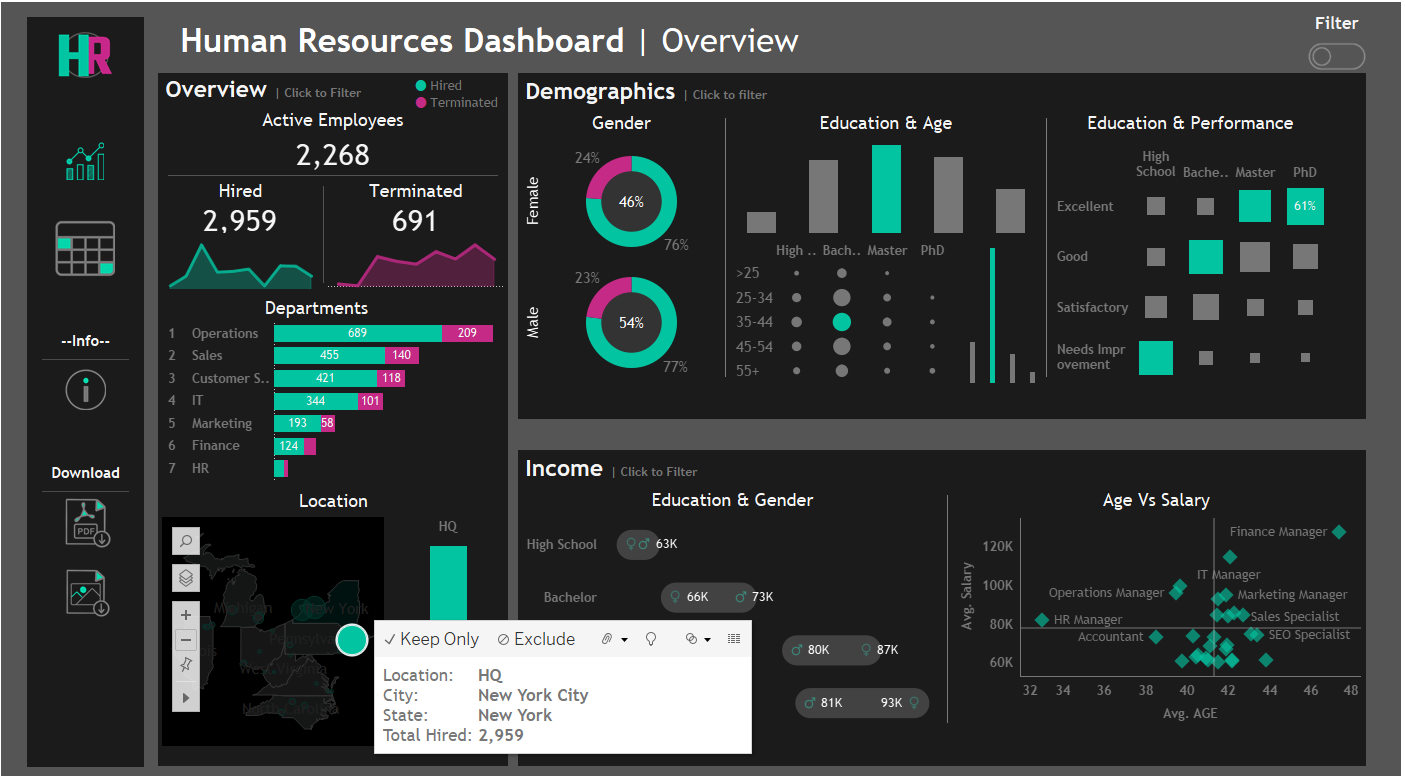

What the dashboard file says about the page in this screenshot:
{"tool":"tableau","page":{"name":"HR | Summary (3)","canvas":[1400,800],"ordinal":3},"visuals":[{"type":"blank","box":[7,7,130,393]},{"type":"text","box":[143,7,676,64]},{"type":"blank","box":[819,7,536,64]},{"type":"text","box":[149,77,352,32]},{"type":"text","box":[509,79,838,35]},{"type":"text","box":[149,109,352,29]},{"type":"text","box":[511,116,207,29]},{"type":"blank","box":[718,116,25,246]},{"type":"text","box":[743,116,261,29]},{"type":"blank","box":[1004,116,25,246]},{"type":"text","box":[1029,116,316,29]},{"type":"worksheet","title":"Active","mark":"Text","box":[149,138,352,41]},{"type":"worksheet","title":"Gender","mark":"Pie","rows":["Gender"],"cols":["Calculation_1937110846429085710","Calculation_1937110846429085710"],"box":[511,145,207,217]},{"type":"worksheet","title":"Age Group","mark":"Bar","rows":["Calculation_1937110846402056192"],"cols":["Calculation_1937110846440509456"],"box":[743,145,261,100]},{"type":"worksheet","title":"Education VS Performance","mark":"Square","rows":["Performance Rating"],"cols":["Education Level"],"box":[1029,145,316,217]},{"type":"blank","box":[149,179,352,25]},{"type":"text","box":[151,206,165,29]},{"type":"blank","box":[316,206,17,113]},{"type":"text","box":[333,206,166,29]},{"type":"worksheet","title":"HIRED","mark":"Text","box":[151,235,165,32]},{"type":"worksheet","title":"Terminated","mark":"Text","box":[333,235,166,32]},{"type":"worksheet","title":"Age VS Education","mark":"Pie","rows":["Calculation_1937110846440509456"],"cols":["Education Level"],"box":[743,245,152.5,117]},{"type":"worksheet","title":"Education Level","mark":"Bar","rows":["Calculation_1937110846402056192"],"cols":["Education Level"],"box":[895.5,245,108.5,117]},{"type":"worksheet","title":"Hired by Years","mark":"Line","rows":["Calculation_1937110846402056192","Calculation_1937110846402056192"],"cols":["Hiredate"],"box":[151,267,165,52]},{"type":"worksheet","title":"Terminated by Years","mark":"Line","rows":["Calculation_1937110846402326529","Calculation_1937110846402326529"],"cols":["Termdate"],"box":[333,267,166,52]},{"type":"blank","box":[149,321,118.7,25]},{"type":"text","box":[267.7,321,114.7,25]},{"type":"blank","box":[382.3,321,118.7,25]},{"type":"worksheet","title":"Departments","mark":"Bar","rows":["Calculation_1937110846415405062","Department"],"cols":["Calculation_1937110846402056192"],"box":[149,346,352,166]},{"type":"blank","box":[7,400,130,393]},{"type":"text","box":[509,415,838,35]},{"type":"text","box":[511,452,410.5,29]},{"type":"blank","box":[921.5,452,25,220]},{"type":"text","box":[946.5,452,398.5,29]},{"type":"worksheet","title":"Education VS Gender Level","mark":"Square","rows":["Education Level"],"cols":["Salary","Salary"],"box":[511,481,410.5,191]},{"type":"worksheet","title":"Age VS Salary","mark":"Shape","rows":["Salary"],"cols":["Calculation_1937110846439919631"],"box":[946.5,481,398.5,191]},{"type":"blank","box":[149,512,120,24]},{"type":"text","box":[269,512,112,24]},{"type":"blank","box":[381,512,120,24]},{"type":"worksheet","title":"MAP STATE","mark":"Automatic","box":[149,536,292,222]},{"type":"worksheet","title":"Location","mark":"Bar","rows":["Calculation_1937110846402056192"],"cols":["Calculation_1937110846422126599","Calculation1"],"box":[441,536,60,222]}]}

Visuals, with their boxes on the page's 1400x800 design canvas (x1, y1, x2, y2). These are canvas units, not pixel positions in the 1405x776 screenshot, which may show the page scaled, cropped or inside an application window:
blank: [7, 7, 137, 400]
text: [143, 7, 819, 71]
blank: [819, 7, 1355, 71]
text: [149, 77, 501, 109]
text: [509, 79, 1347, 114]
text: [149, 109, 501, 138]
text: [511, 116, 718, 145]
blank: [718, 116, 743, 362]
text: [743, 116, 1004, 145]
blank: [1004, 116, 1029, 362]
text: [1029, 116, 1345, 145]
"Active" worksheet (Text marks): [149, 138, 501, 179]
"Gender" worksheet (Pie marks): [511, 145, 718, 362]
"Age Group" worksheet (Bar marks): [743, 145, 1004, 245]
"Education VS Performance" worksheet (Square marks): [1029, 145, 1345, 362]
blank: [149, 179, 501, 204]
text: [151, 206, 316, 235]
blank: [316, 206, 333, 319]
text: [333, 206, 499, 235]
"HIRED" worksheet (Text marks): [151, 235, 316, 267]
"Terminated" worksheet (Text marks): [333, 235, 499, 267]
"Age VS Education" worksheet (Pie marks): [743, 245, 896, 362]
"Education Level" worksheet (Bar marks): [896, 245, 1004, 362]
"Hired by Years" worksheet (Line marks): [151, 267, 316, 319]
"Terminated by Years" worksheet (Line marks): [333, 267, 499, 319]
blank: [149, 321, 268, 346]
text: [268, 321, 382, 346]
blank: [382, 321, 501, 346]
"Departments" worksheet (Bar marks): [149, 346, 501, 512]
blank: [7, 400, 137, 793]
text: [509, 415, 1347, 450]
text: [511, 452, 922, 481]
blank: [922, 452, 946, 672]
text: [946, 452, 1345, 481]
"Education VS Gender Level" worksheet (Square marks): [511, 481, 922, 672]
"Age VS Salary" worksheet (Shape marks): [946, 481, 1345, 672]
blank: [149, 512, 269, 536]
text: [269, 512, 381, 536]
blank: [381, 512, 501, 536]
"MAP STATE" worksheet: [149, 536, 441, 758]
"Location" worksheet (Bar marks): [441, 536, 501, 758]
